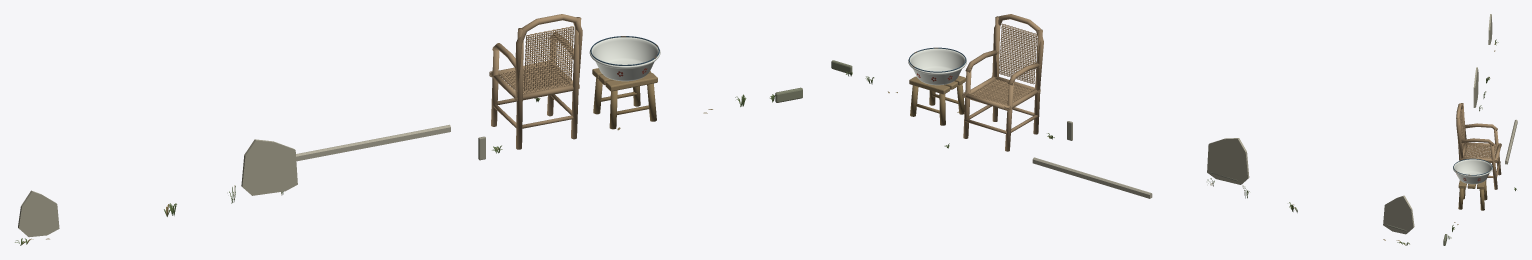
Rendered from doorstep_cane.glb.
3 views of the same model, side by side, from view 1: azimuth 30°, elevation 25°; view 2: azimuth 150°, elevation 25°; view 3: azimuth 270°, elevation 25° (orthographic). The views are drawn at different scales.
Visible parts, largest first — view 1: wicker, concrete, enamel, wood, verge_green; view 2: wicker, concrete, enamel, wood; view 3: wicker, enamel, concrete, wood, enamel_flower, verge_green.
Part boxes in pixels (<box>): wicker: <box>489,14,582,149</box>; concrete: <box>18,87,802,237</box>; enamel: <box>589,37,660,81</box>; wood: <box>592,68,657,129</box>; verge_green: <box>15,94,775,245</box>; wicker: <box>962,14,1043,151</box>; concrete: <box>831,60,1414,234</box>; enamel: <box>908,48,966,85</box>; wood: <box>909,75,965,125</box>; wicker: <box>1456,103,1501,189</box>; enamel: <box>1453,159,1492,184</box>; concrete: <box>1443,14,1517,245</box>; wood: <box>1458,179,1487,210</box>; enamel_flower: <box>1453,158,1492,181</box>; verge_green: <box>1448,39,1516,239</box>.
Bounding box in the file's own units: 6.33 × 1.07 × 0.9696.
